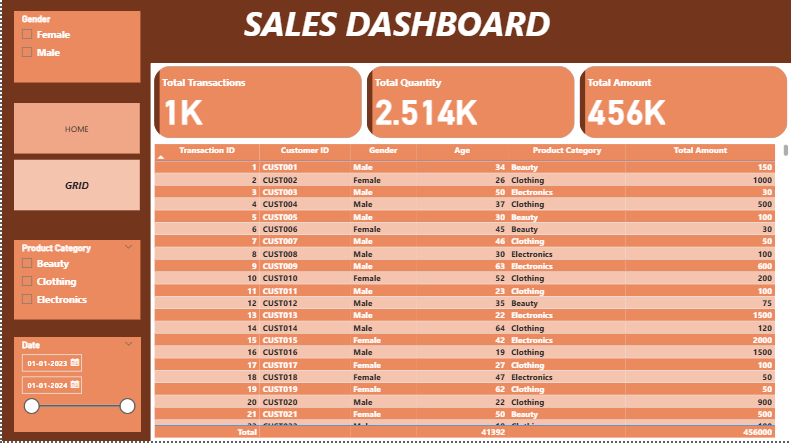

What the dashboard file says about the page in this screenshot:
{"tool":"powerbi","page":{"name":"GRID","canvas":[1280,720],"ordinal":1},"visuals":[{"type":"shape","box":[0,0,1280,107.5],"z":0},{"type":"shape","box":[0,106.8,241.5,613.2],"z":1000},{"type":"textbox","box":[0,0,1280.5,82],"z":2000},{"type":"cardVisual","fields":{"Data":["CountNonNull(retail_sales_dataset.Transaction ID)","Sum(retail_sales_dataset.Quantity)","Sum(retail_sales_dataset.Total Amount)"]},"box":[241.5,106.8,1039,127.3],"z":3000},{"type":"slicer","fields":{"Values":["retail_sales_dataset.Gender"]},"box":[19,23.4,204.9,115.6],"z":4000},{"type":"slicer","fields":{"Values":["retail_sales_dataset.Date"]},"box":[19,551.7,204.9,153.7],"z":5000},{"type":"slicer","fields":{"Values":["retail_sales_dataset.Product Category"]},"box":[19,393.7,204.9,128.8],"z":6000},{"type":"tableEx","fields":{"Values":["retail_sales_dataset.Transaction ID","retail_sales_dataset.Customer ID","retail_sales_dataset.Gender","Sum(retail_sales_dataset.Age)","retail_sales_dataset.Product Category","Sum(retail_sales_dataset.Total Amount)"]},"box":[241.5,234.1,1039,485.9],"z":7000},{"type":"pageNavigator","box":[19,171.2,204.9,175.6],"z":8000}]}

Visuals, with their boxes in screenshot pixels (x1, y1, x2, y2), scaled from the page's 1280x720 canvas onto the 791x444 screenshot:
shape: {"x1": 0, "y1": 0, "x2": 790, "y2": 66}
shape: {"x1": 0, "y1": 66, "x2": 149, "y2": 443}
textbox: {"x1": 0, "y1": 0, "x2": 790, "y2": 51}
cardVisual - CountNonNull(retail_sales_dataset.Transaction ID) x Sum(retail_sales_dataset.Quantity): {"x1": 149, "y1": 66, "x2": 790, "y2": 144}
slicer - retail_sales_dataset.Gender: {"x1": 12, "y1": 14, "x2": 138, "y2": 86}
slicer - retail_sales_dataset.Date: {"x1": 12, "y1": 340, "x2": 138, "y2": 435}
slicer - retail_sales_dataset.Product Category: {"x1": 12, "y1": 243, "x2": 138, "y2": 322}
tableEx - retail_sales_dataset.Transaction ID x retail_sales_dataset.Customer ID: {"x1": 149, "y1": 144, "x2": 790, "y2": 443}
pageNavigator: {"x1": 12, "y1": 106, "x2": 138, "y2": 214}
